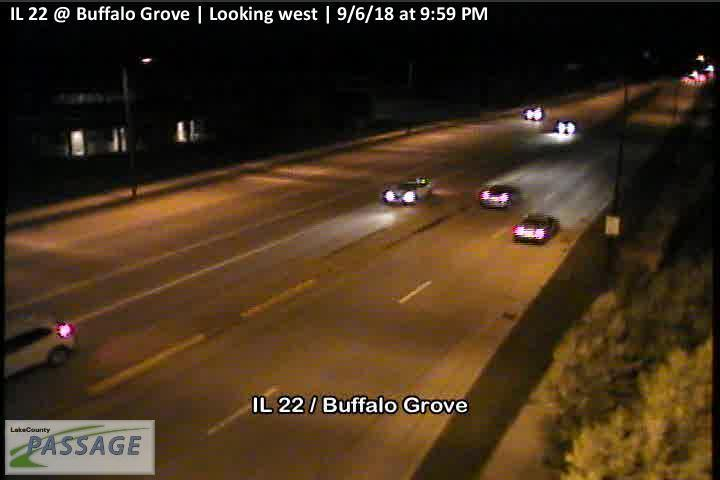SUV: (4, 316, 79, 379), (480, 183, 520, 209)
Sedan: (513, 212, 559, 245), (383, 177, 433, 205)
